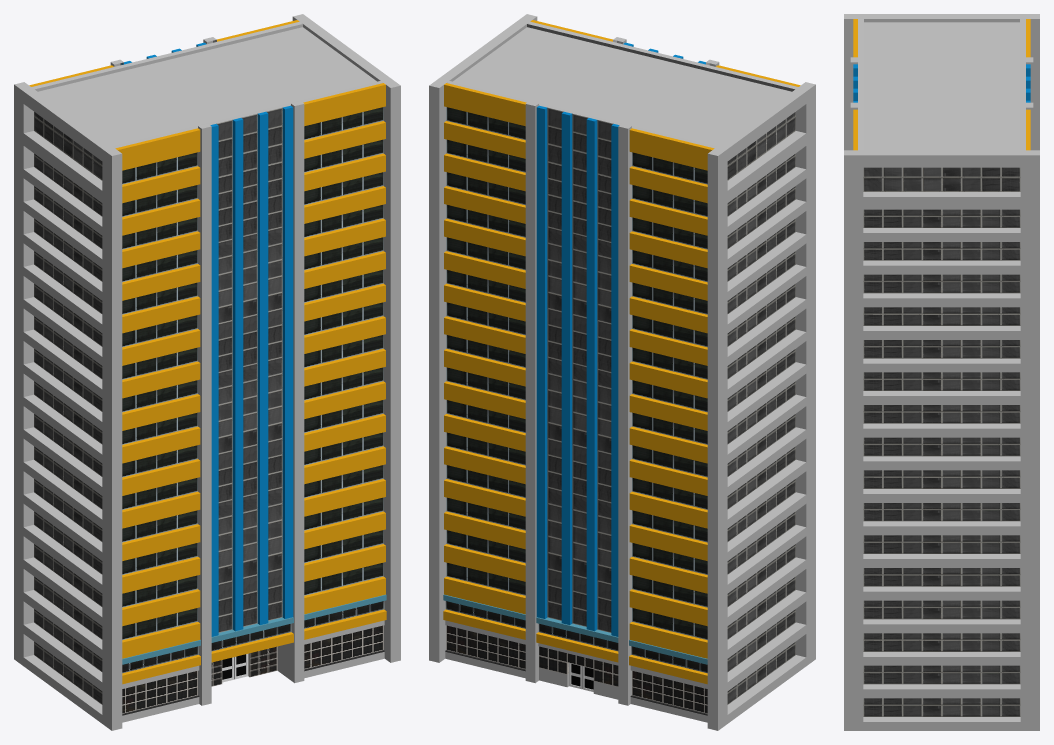
3 renders of one model, left to right at view 1: azimuth 30°, elevation 25°; view 2: azimuth 150°, elevation 25°; view 3: azimuth 270°, elevation 25°, orthographic.
Visible parts, largest first — view 1: Building; view 2: Building; view 3: Building.
Boxes of the visible parts, x1=… form: Building: x1=14, y1=14, x2=400, y2=730; Building: x1=429, y1=14, x2=815, y2=730; Building: x1=844, y1=14, x2=1039, y2=730.
Size of what is drawn, in the model's own units: 27.88 by 53.2 by 16.35.
